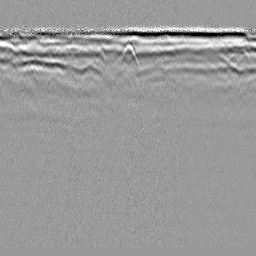cavity: (118, 42, 139, 65)
